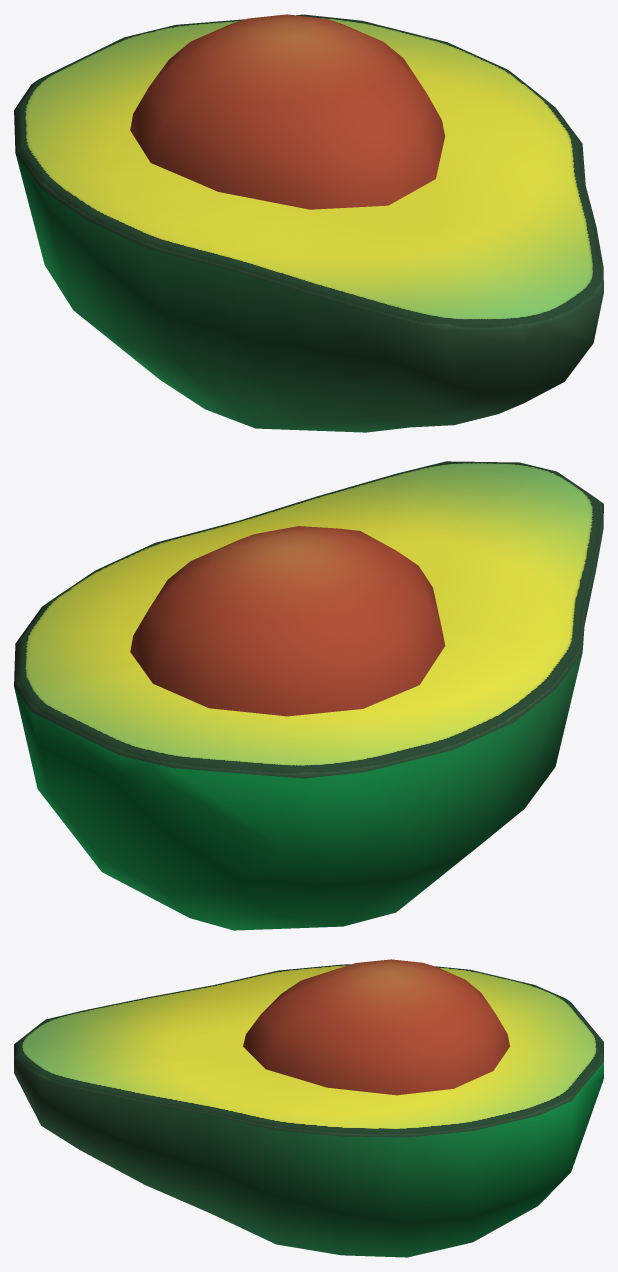
The model's file is avocado.fbx.
3 views of the same model, one above another, from view 1: azimuth 30°, elevation 25°; view 2: azimuth 150°, elevation 25°; view 3: azimuth 270°, elevation 25° (orthographic). The views are drawn at different scales.
Visible parts, largest first — view 1: Avocado; view 2: Avocado; view 3: Avocado.
Part boxes in pixels (x1,y1,x2,y2): Avocado: (14, 14, 603, 432); Avocado: (14, 461, 603, 930); Avocado: (14, 959, 603, 1257).
Size of the model in its own units: 118 by 85.5 by 172.
1 material, 1 textured.
